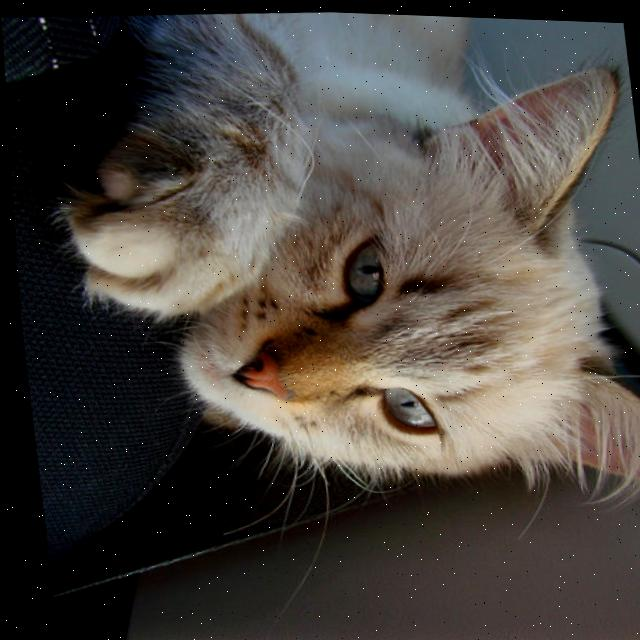Neva Masquerade: (34, 1, 640, 531)
